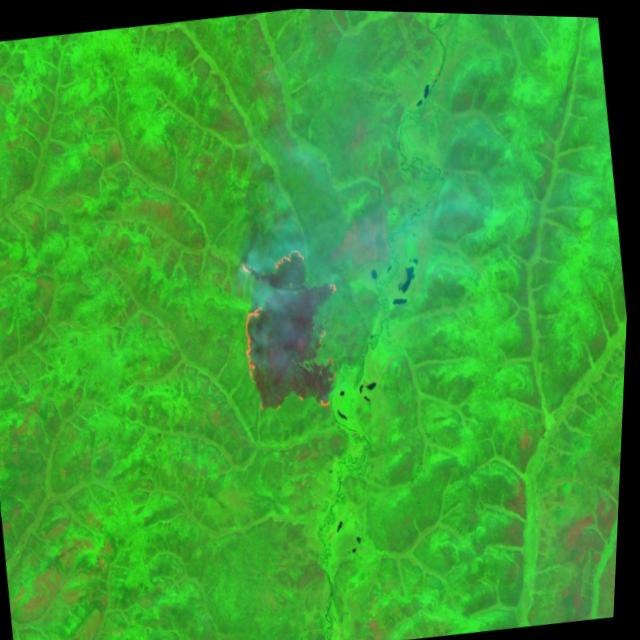fire: (229, 235, 360, 419)
